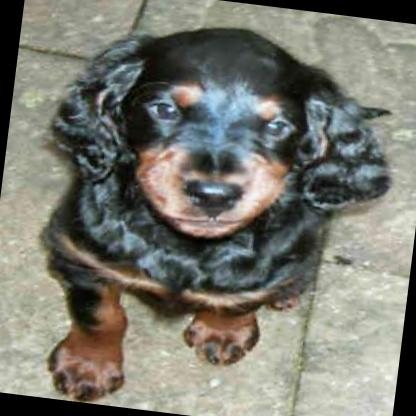Gordon_setter: (6, 3, 409, 416)
